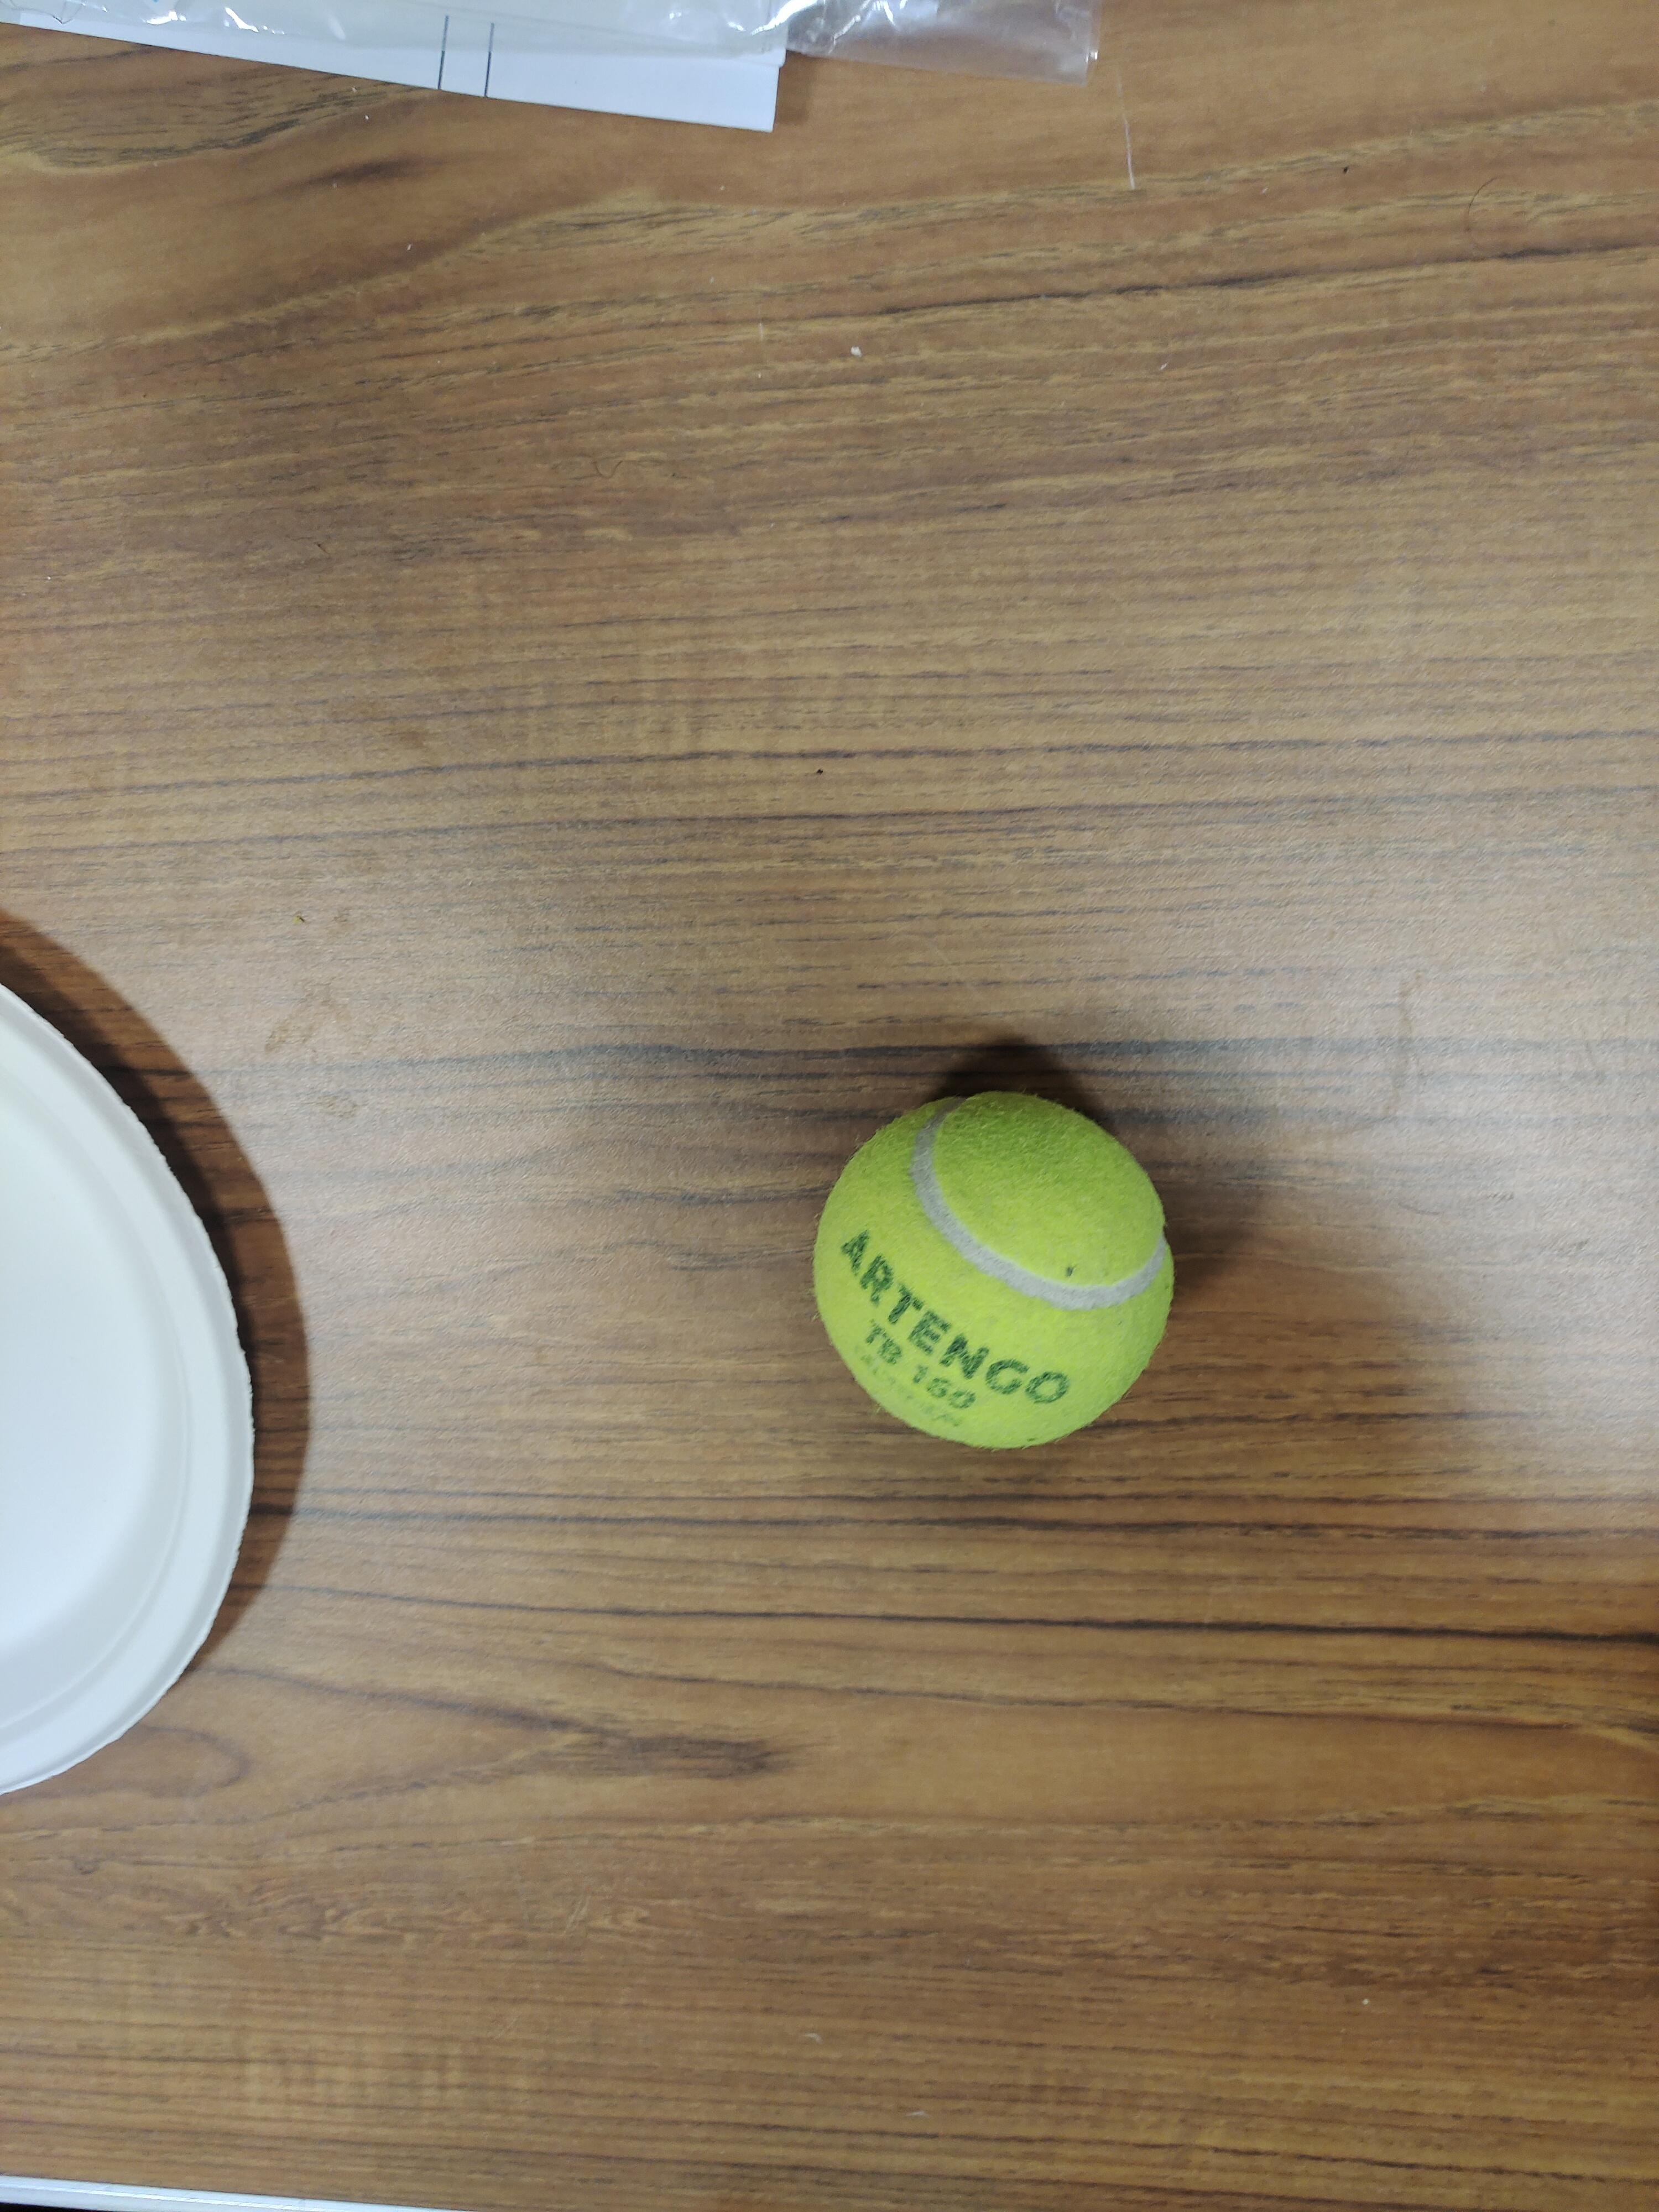tennis: (789, 1083, 1192, 1470)
